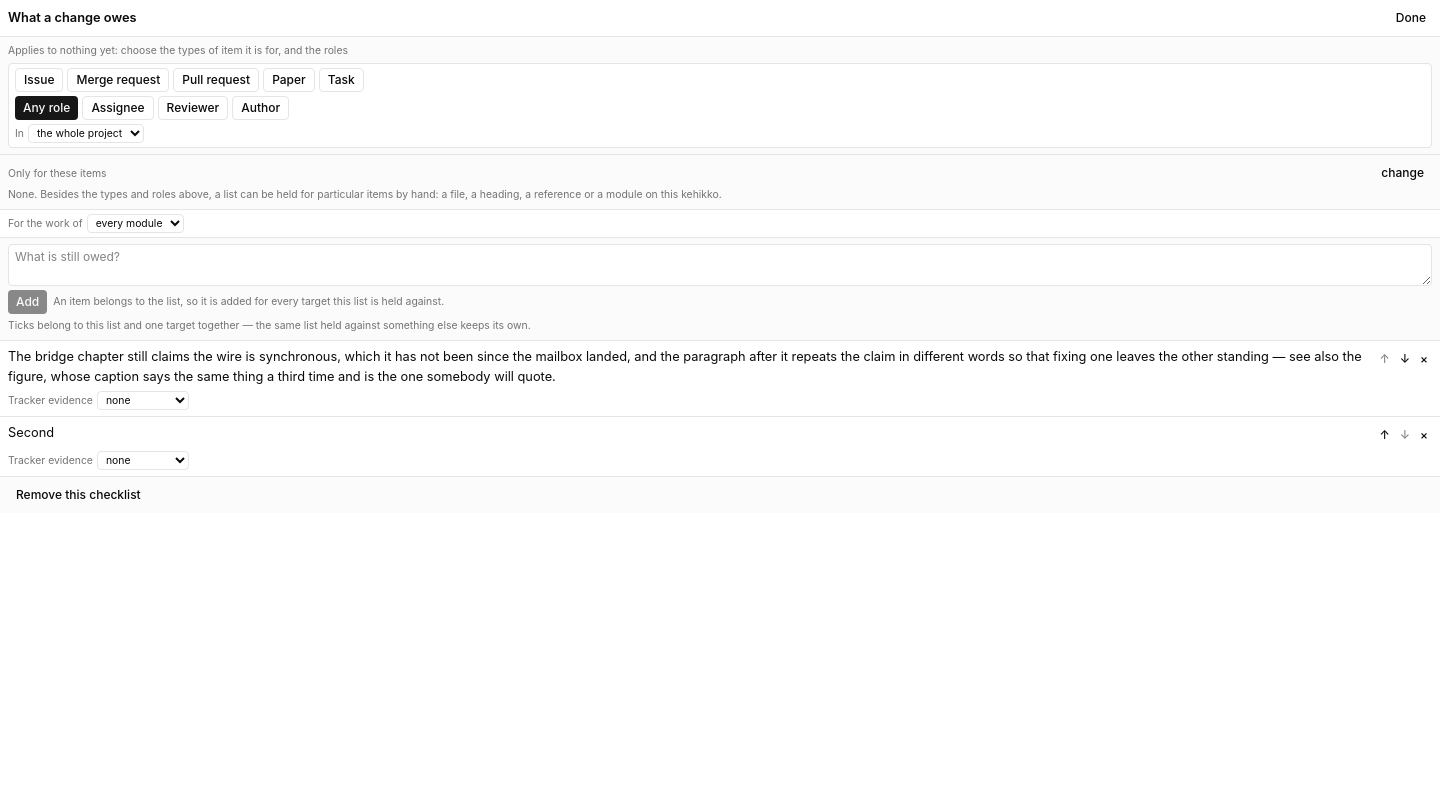
the edit page: what a list says, and what it is held against › says how to get the paper’s files when no file of it is known, and offers the whole paper anyway
Click the button "change".
click(1403, 173)  # box 1373,161 -> 1432,185
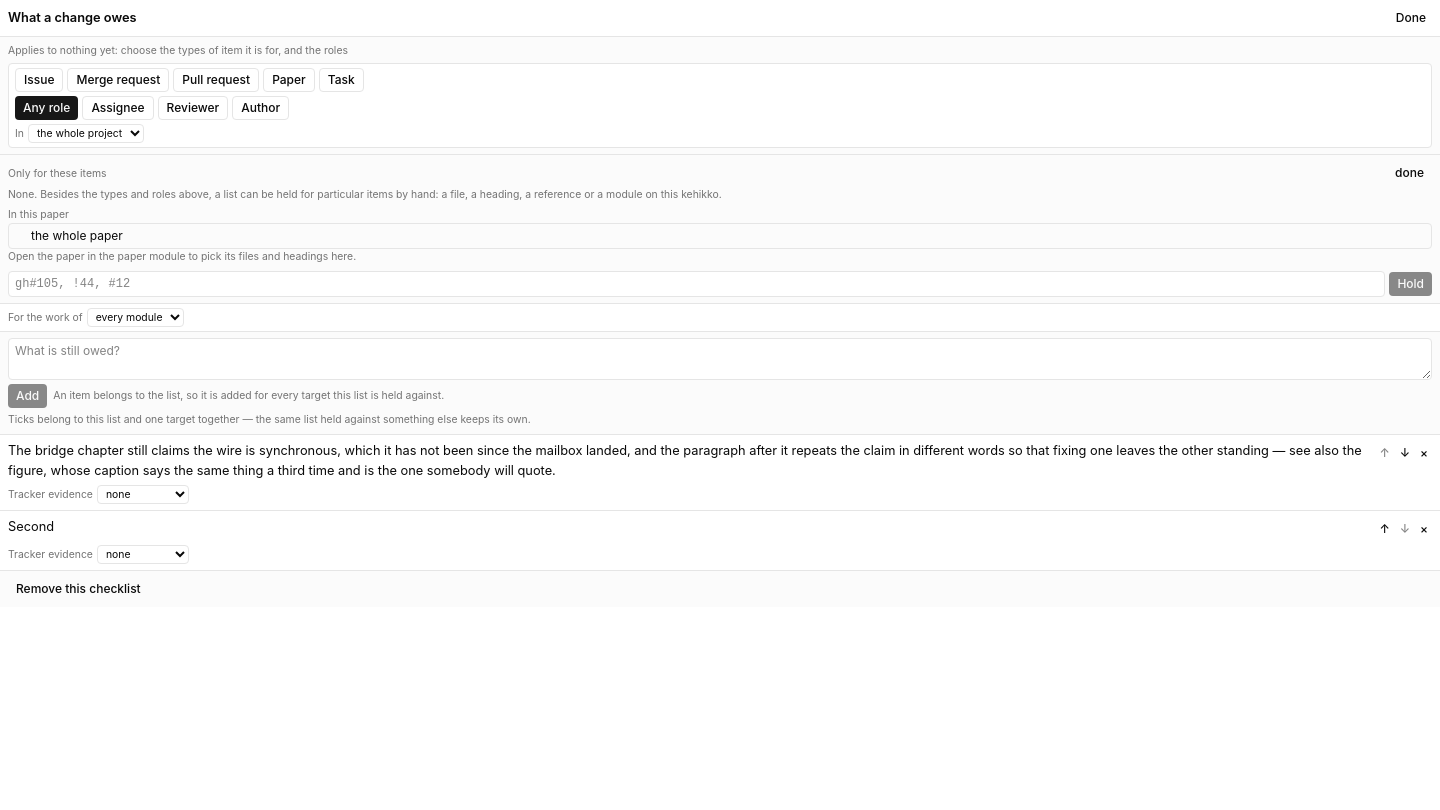
Result: the element that starts with "In this paper" is shown at 8,207 -> 1432,265
Result: the text "Open the paper in the paper module" is shown at 8,250 -> 356,263
Result: the button "the whole paper" is shown at 9,224 -> 129,248
